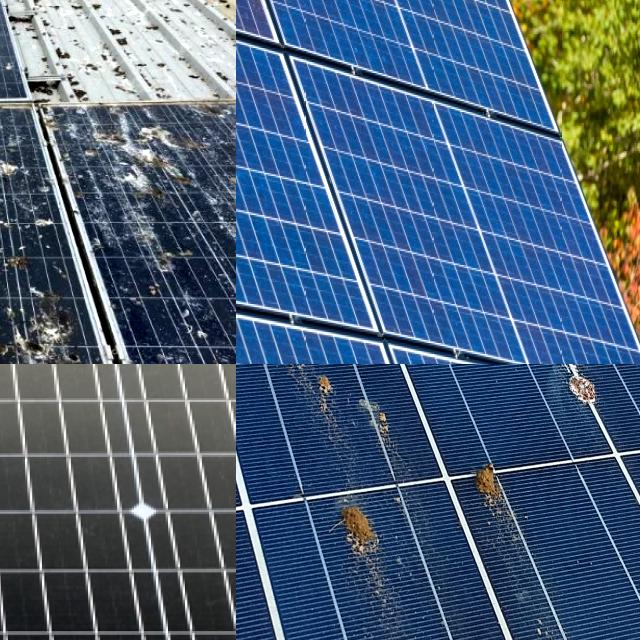bird: (72, 125, 230, 207), (326, 486, 403, 626), (0, 189, 72, 273), (18, 294, 98, 364), (0, 285, 56, 364), (0, 108, 65, 173), (0, 283, 52, 364), (281, 364, 341, 433), (543, 364, 616, 415), (348, 379, 394, 458), (0, 138, 32, 245), (0, 256, 38, 343), (467, 456, 517, 522), (0, 26, 56, 84), (0, 113, 40, 185), (152, 331, 236, 364), (0, 290, 29, 358)
crack: (236, 0, 640, 364), (0, 364, 236, 640)
